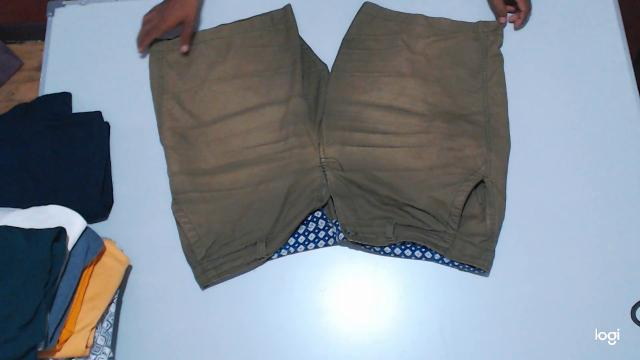new-garment: (139, 1, 510, 290)
